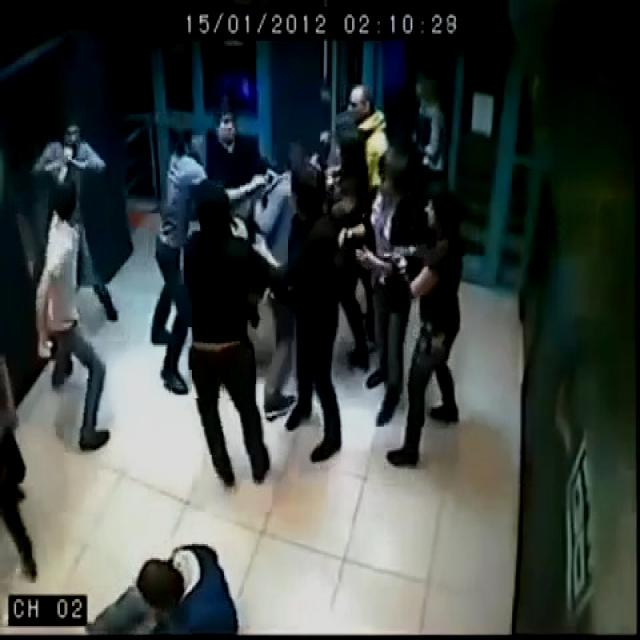fight: (106, 88, 432, 310)
